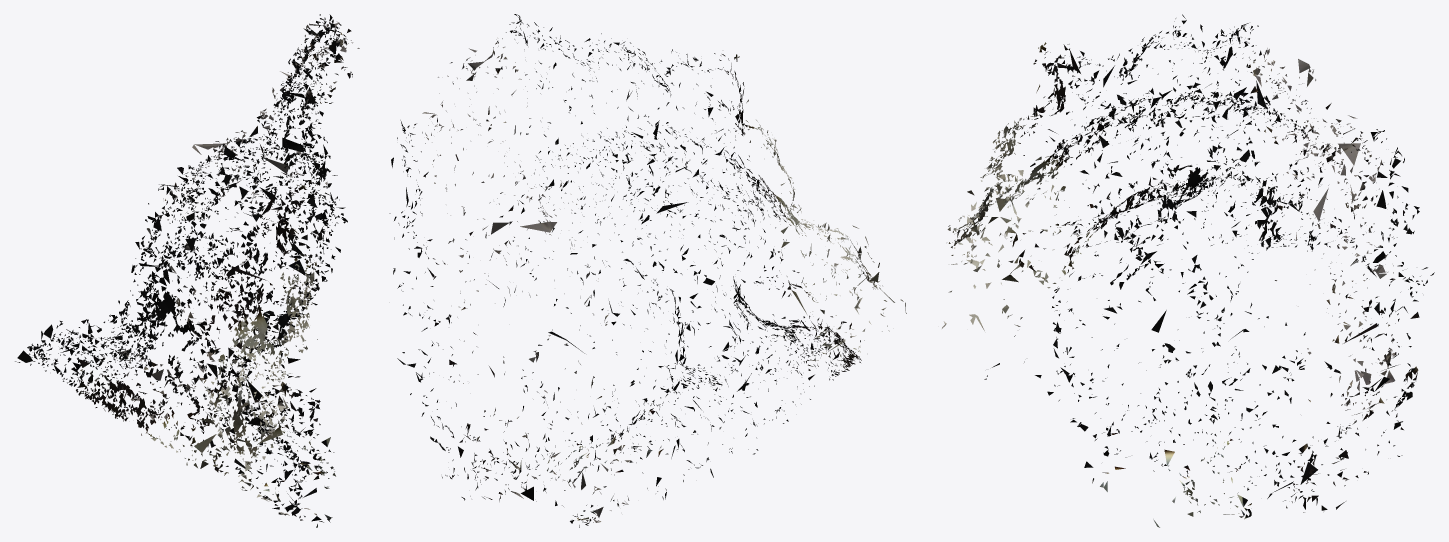
3 renders of one model, left to right at view 1: azimuth 30°, elevation 25°; view 2: azimuth 150°, elevation 25°; view 3: azimuth 270°, elevation 25°, orthographic. The views are drawn at different scales.
Parts seen in each view (by area): view 1: test8; view 2: test8; view 3: test8.
Boxes of the visible parts, x1,y1,x2,y2 form: test8: (15,14,359,527); test8: (389,14,906,527); test8: (942,14,1434,527).
Size of the model in its own units: 1.14 by 1.49 by 1.27.
1 material, 1 textured.
